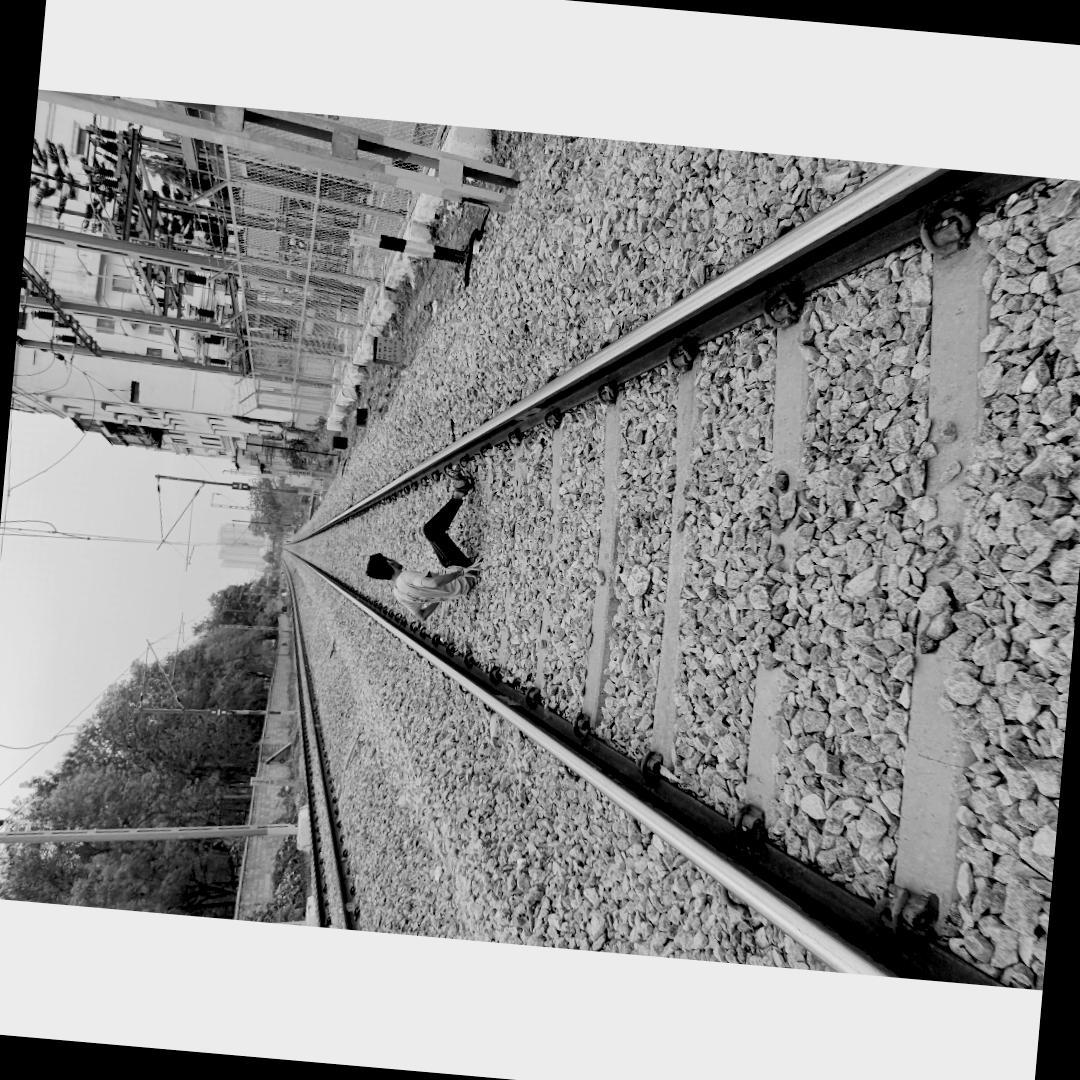sitting: (358, 458, 490, 628)
track: (271, 162, 1080, 991)
